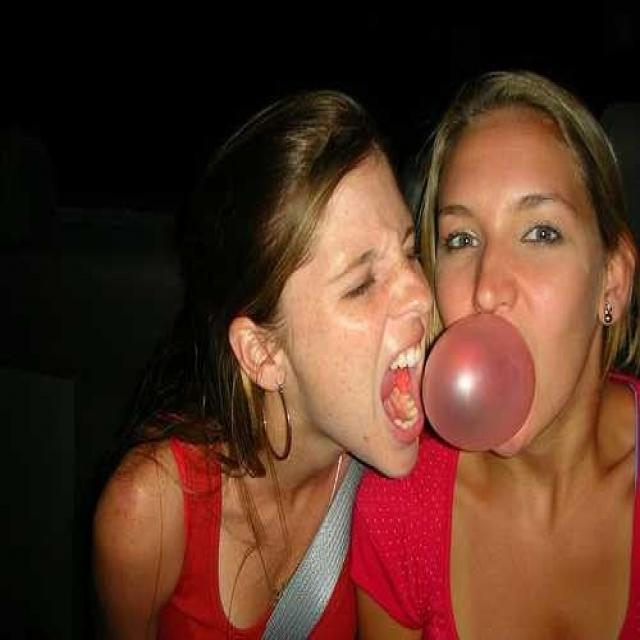seatbelt: (261, 452, 383, 621)
